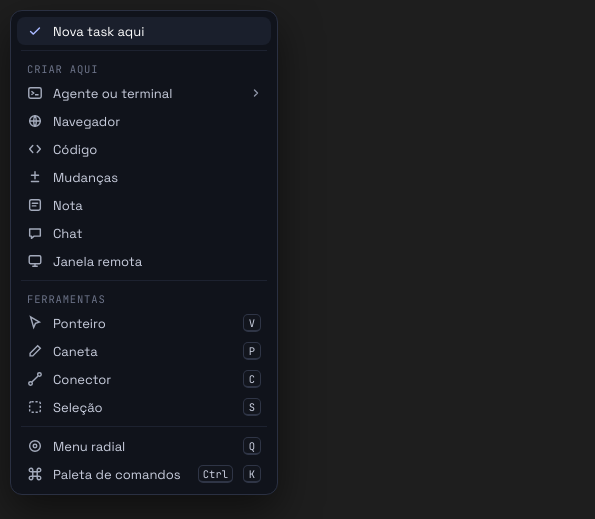
Test: with the agent flow › resting the pointer on the row opens it after a short dwell, without taking focus
Hover over the menu item "Agente ou terminal" at (144, 93), box [17,79,271,107]
Wait 160 ms
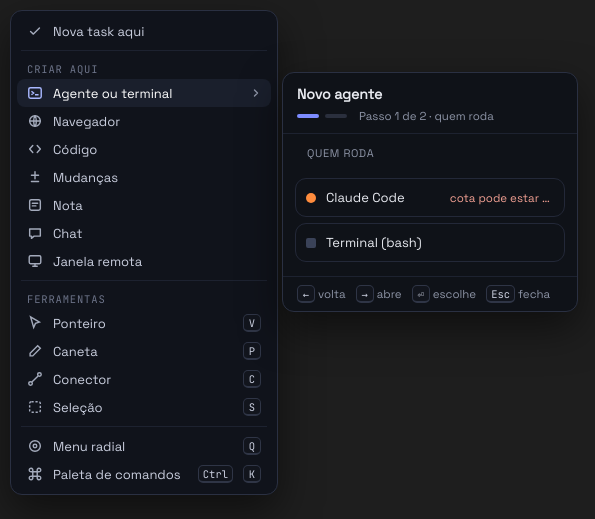
Now the element named "Novo agente" is shown, box [282,72,578,312]
